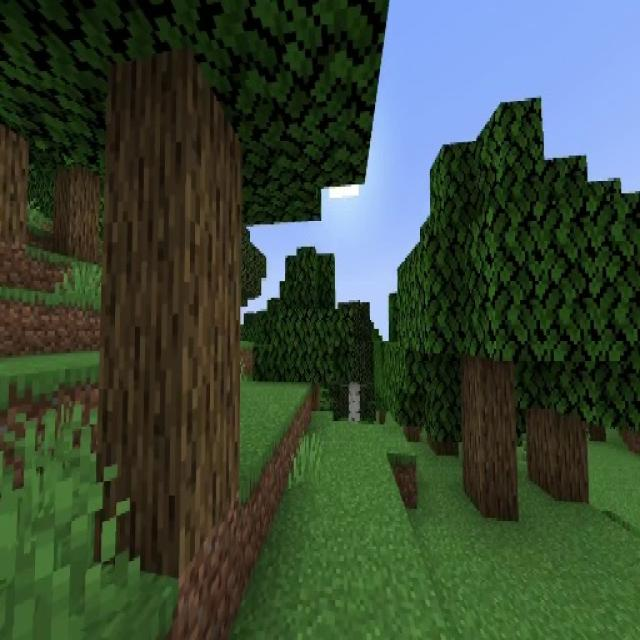birch: (330, 308, 377, 423)
birch_log: (347, 381, 360, 421)
oak: (402, 89, 632, 523)
oak_log: (96, 30, 242, 573), (460, 356, 518, 514), (532, 406, 589, 503), (57, 169, 99, 261), (0, 126, 30, 243)
